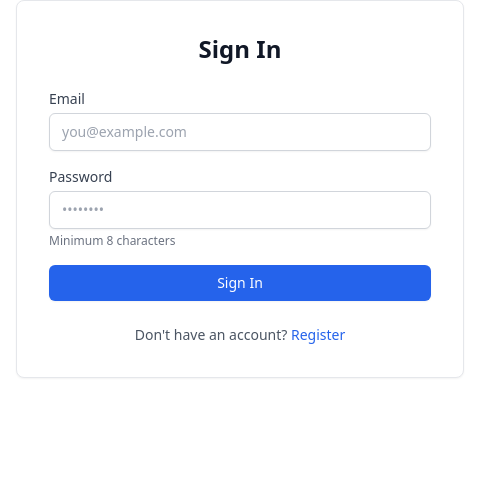
Test case: AuthForm › register form validation › shows confirm password required error when empty
Click the button with aria-label "switch to register form" at (318, 335), box [291,325,345,345]
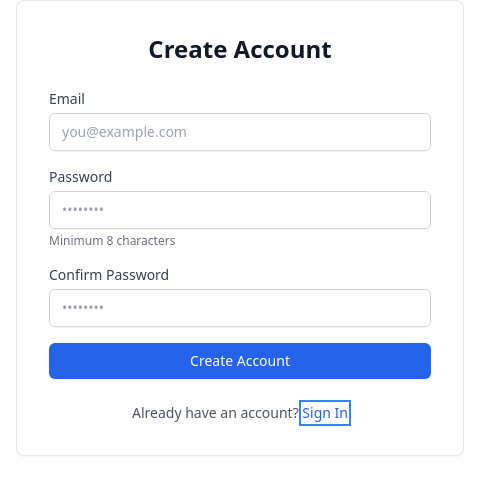
Type "test@example.com" into the field labelled "Email" at (240, 132), box [49,113,431,151]
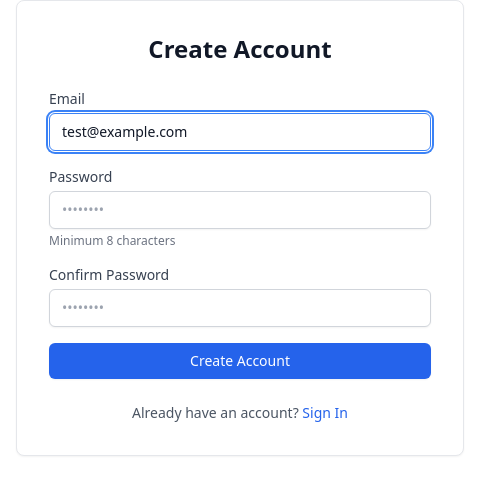
Type "password123" into the password field labelled "Password" at (240, 210), box [49,191,431,229]
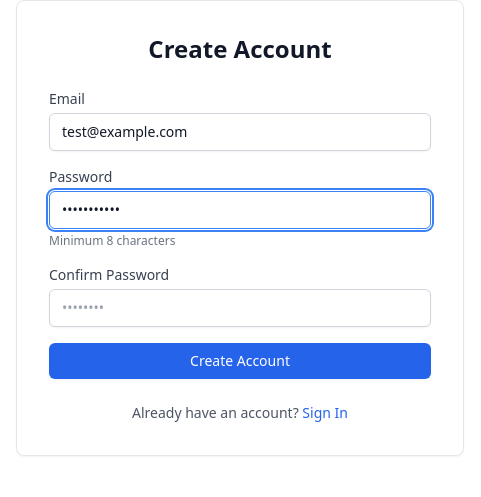
Click the button "Create Account" at (240, 361), box [49,343,431,379]
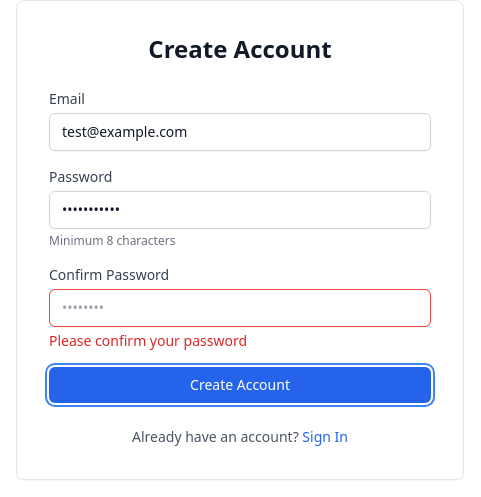
Check: the text "Please confirm your password" is shown, box [49,331,247,350]
